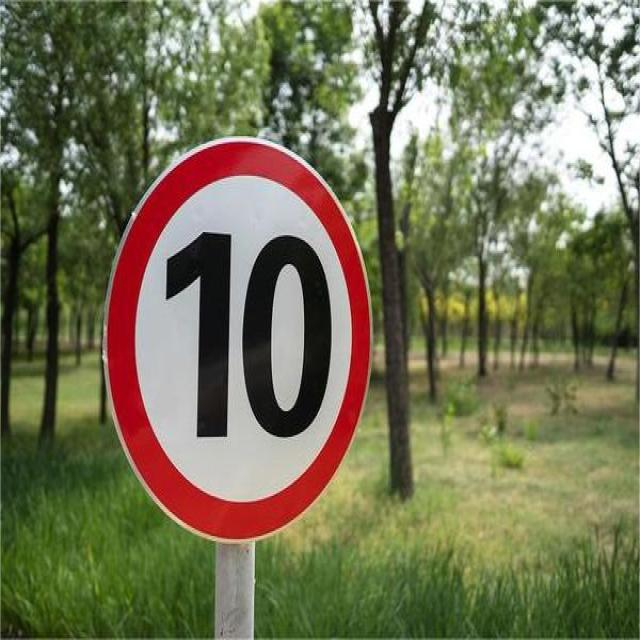speed limit 10: (104, 137, 374, 542)
